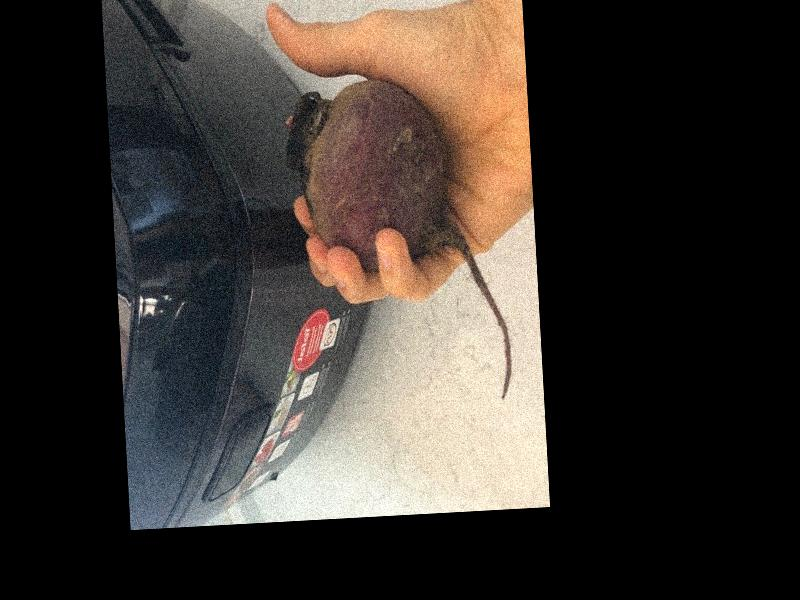Beet: (282, 73, 514, 411)
